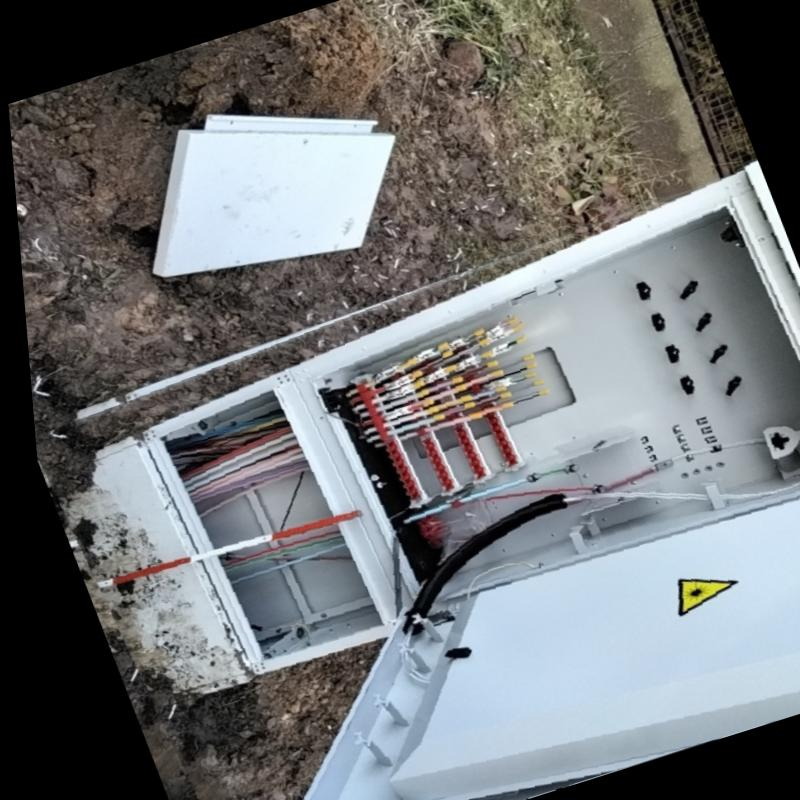NT-Gehause: (84, 160, 800, 800)
